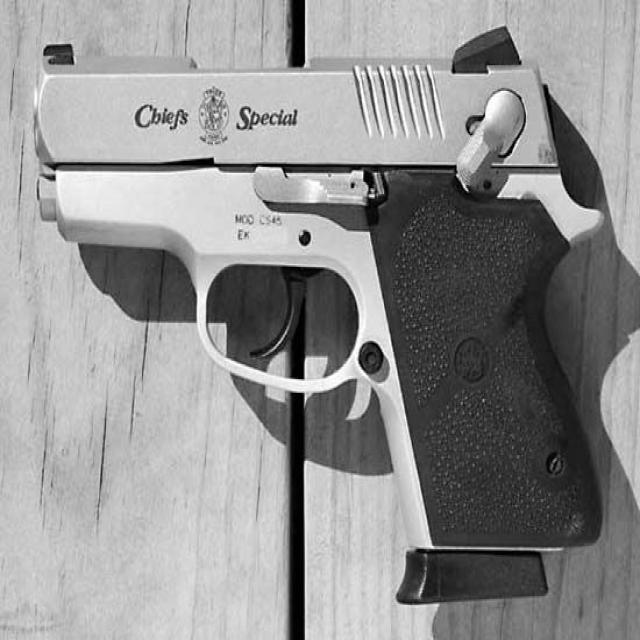Hand-Gun: (15, 31, 592, 606)
